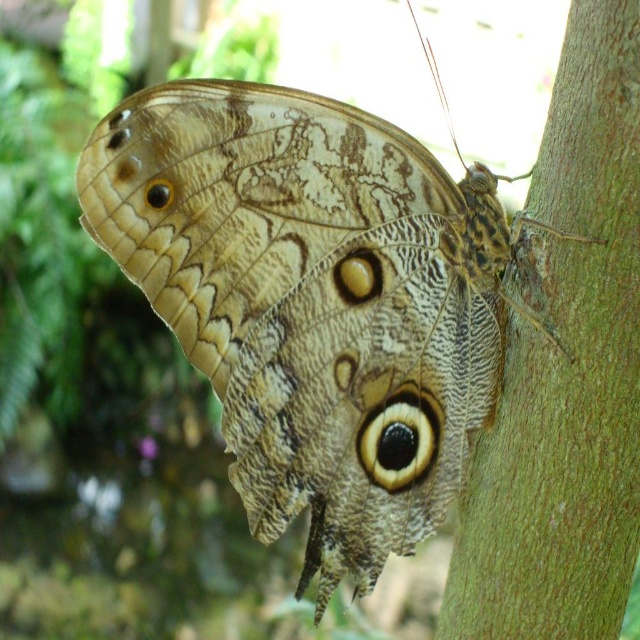Butterfly: (103, 16, 548, 640)
